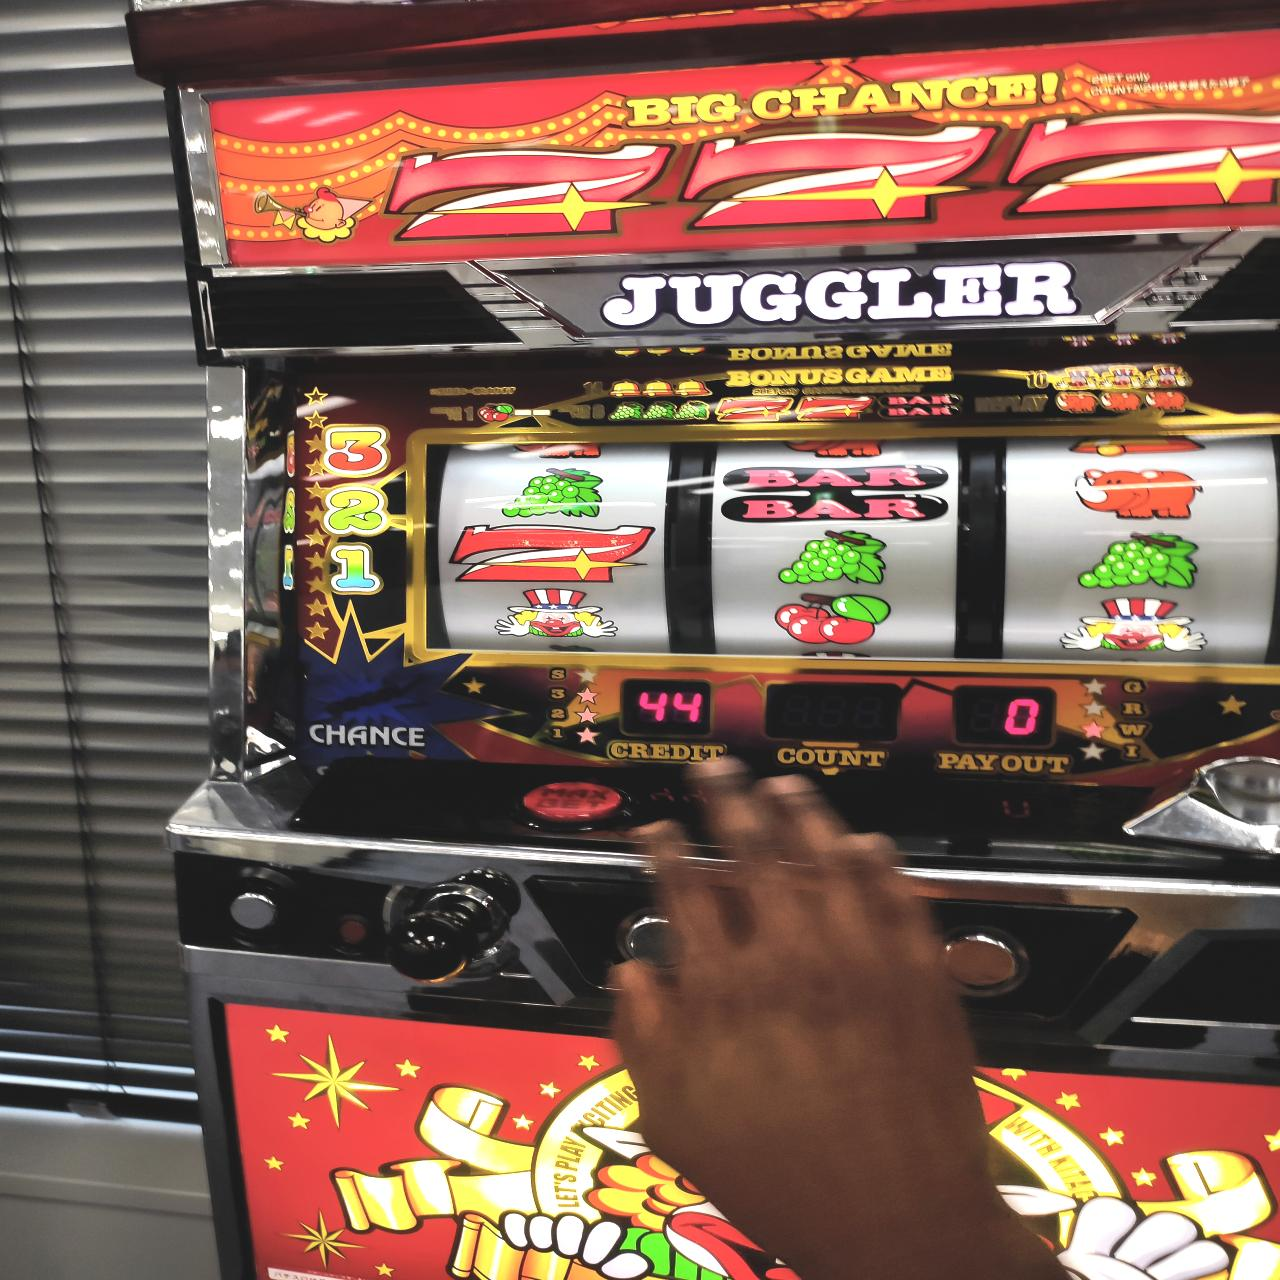7: (445, 522, 660, 586)
8: (1074, 469, 1207, 520)
Display: (407, 427, 1280, 682)
bar: (723, 467, 945, 523)
cherry: (770, 593, 887, 646)
clown: (1060, 597, 1214, 654), (497, 585, 620, 640)
grape: (1071, 529, 1196, 588), (776, 530, 885, 583), (498, 465, 601, 520)
